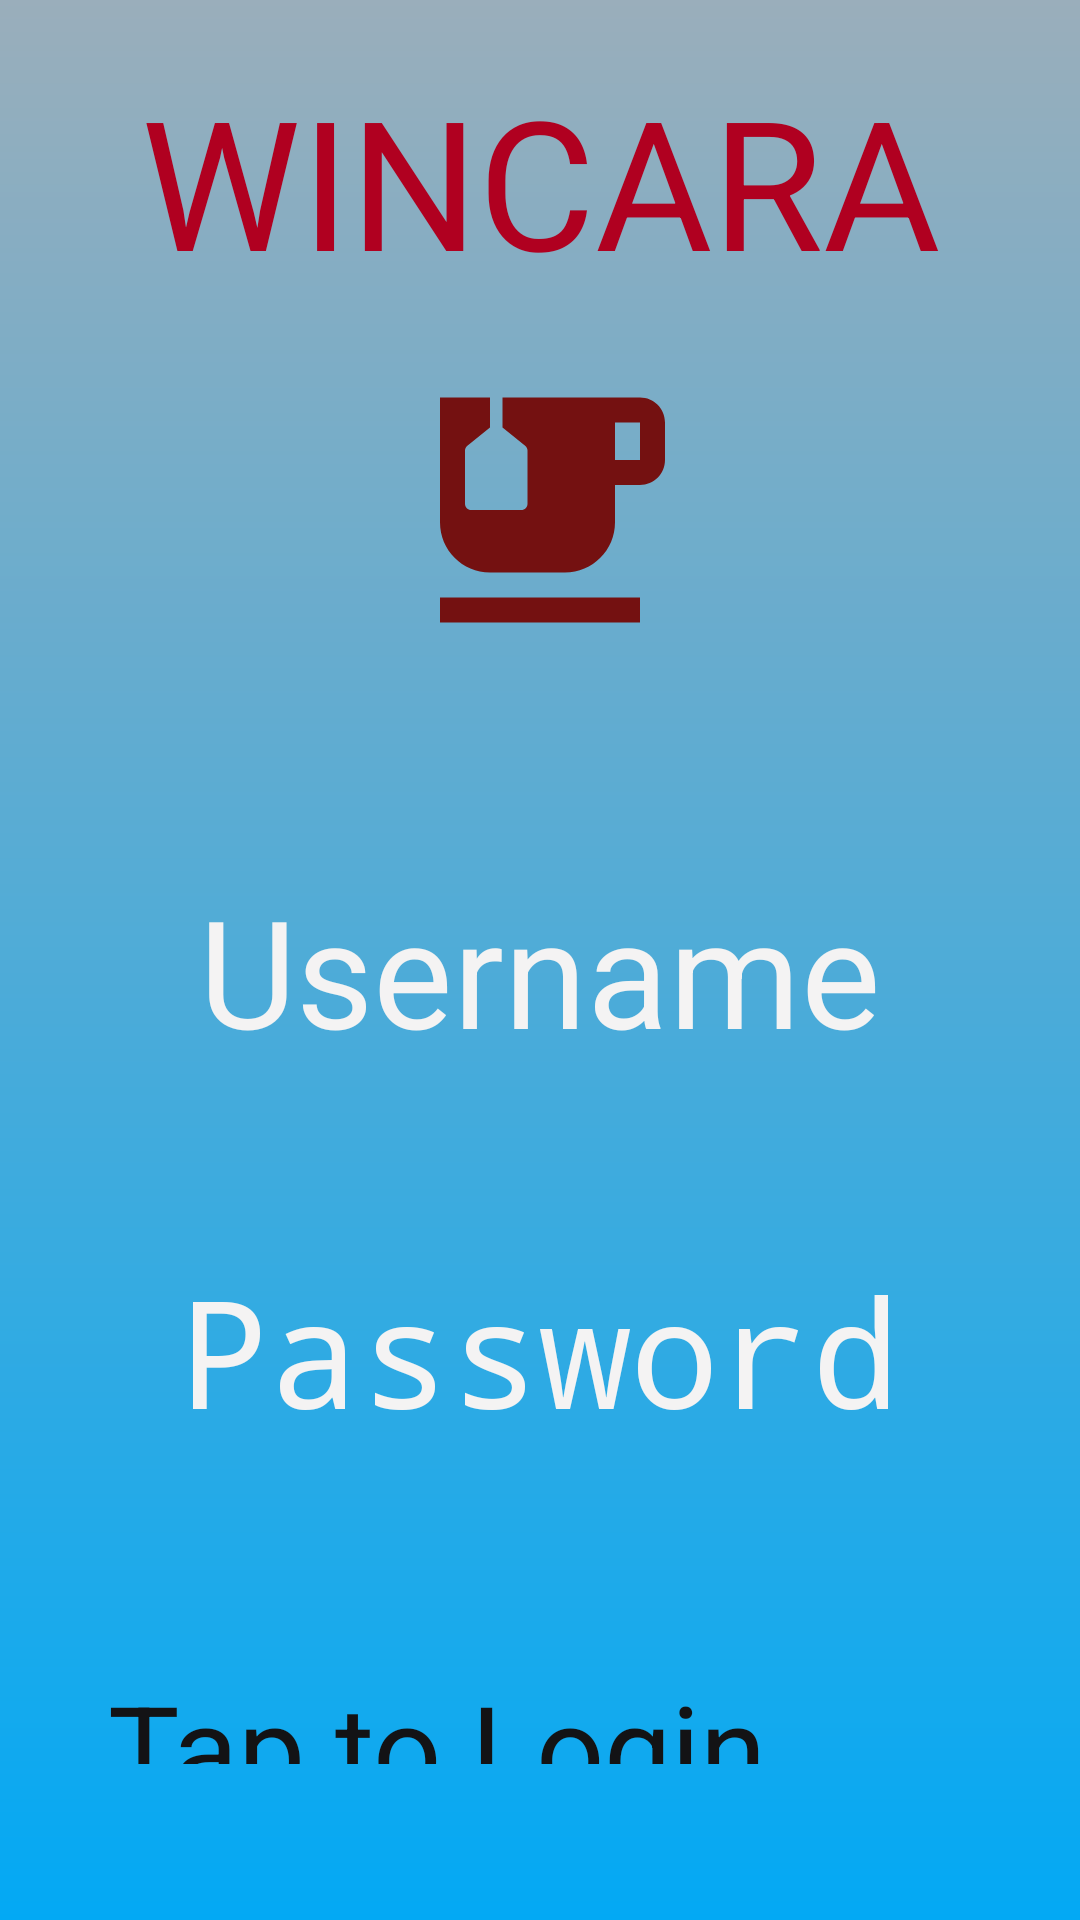

Named icons in this screenshot (1080×1920) and their centers, [x,y]:
emoji food beverage: [552,510]
